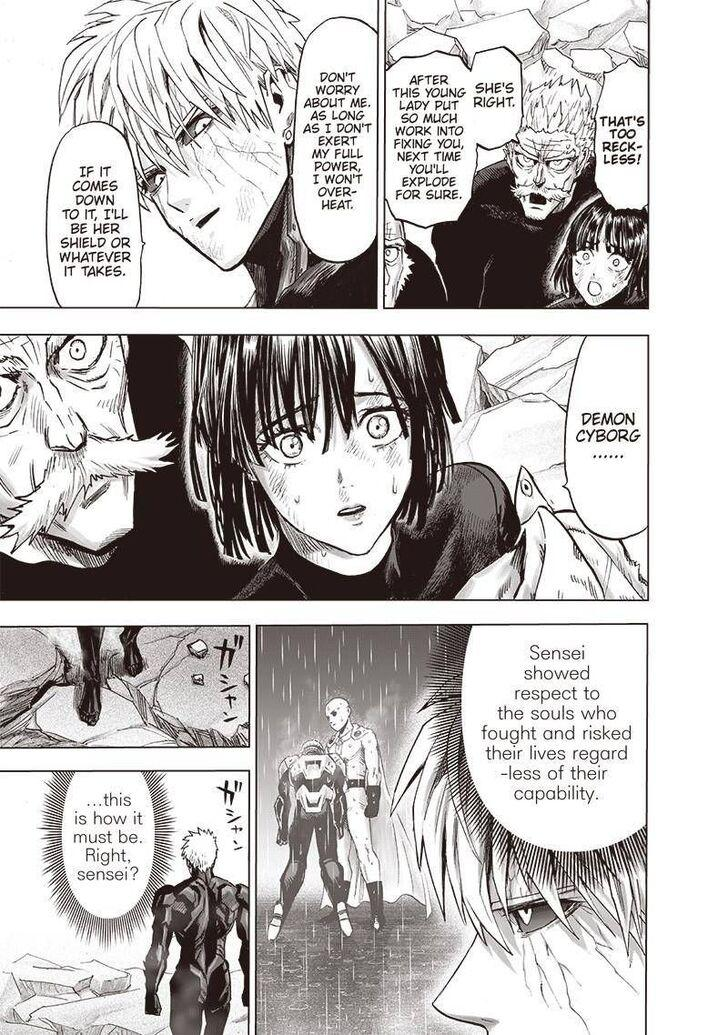Bubble: (459, 622, 651, 854), (291, 15, 379, 265), (44, 120, 144, 310), (562, 332, 650, 540), (384, 44, 468, 230), (59, 768, 157, 921), (592, 55, 652, 214), (472, 44, 525, 151)
